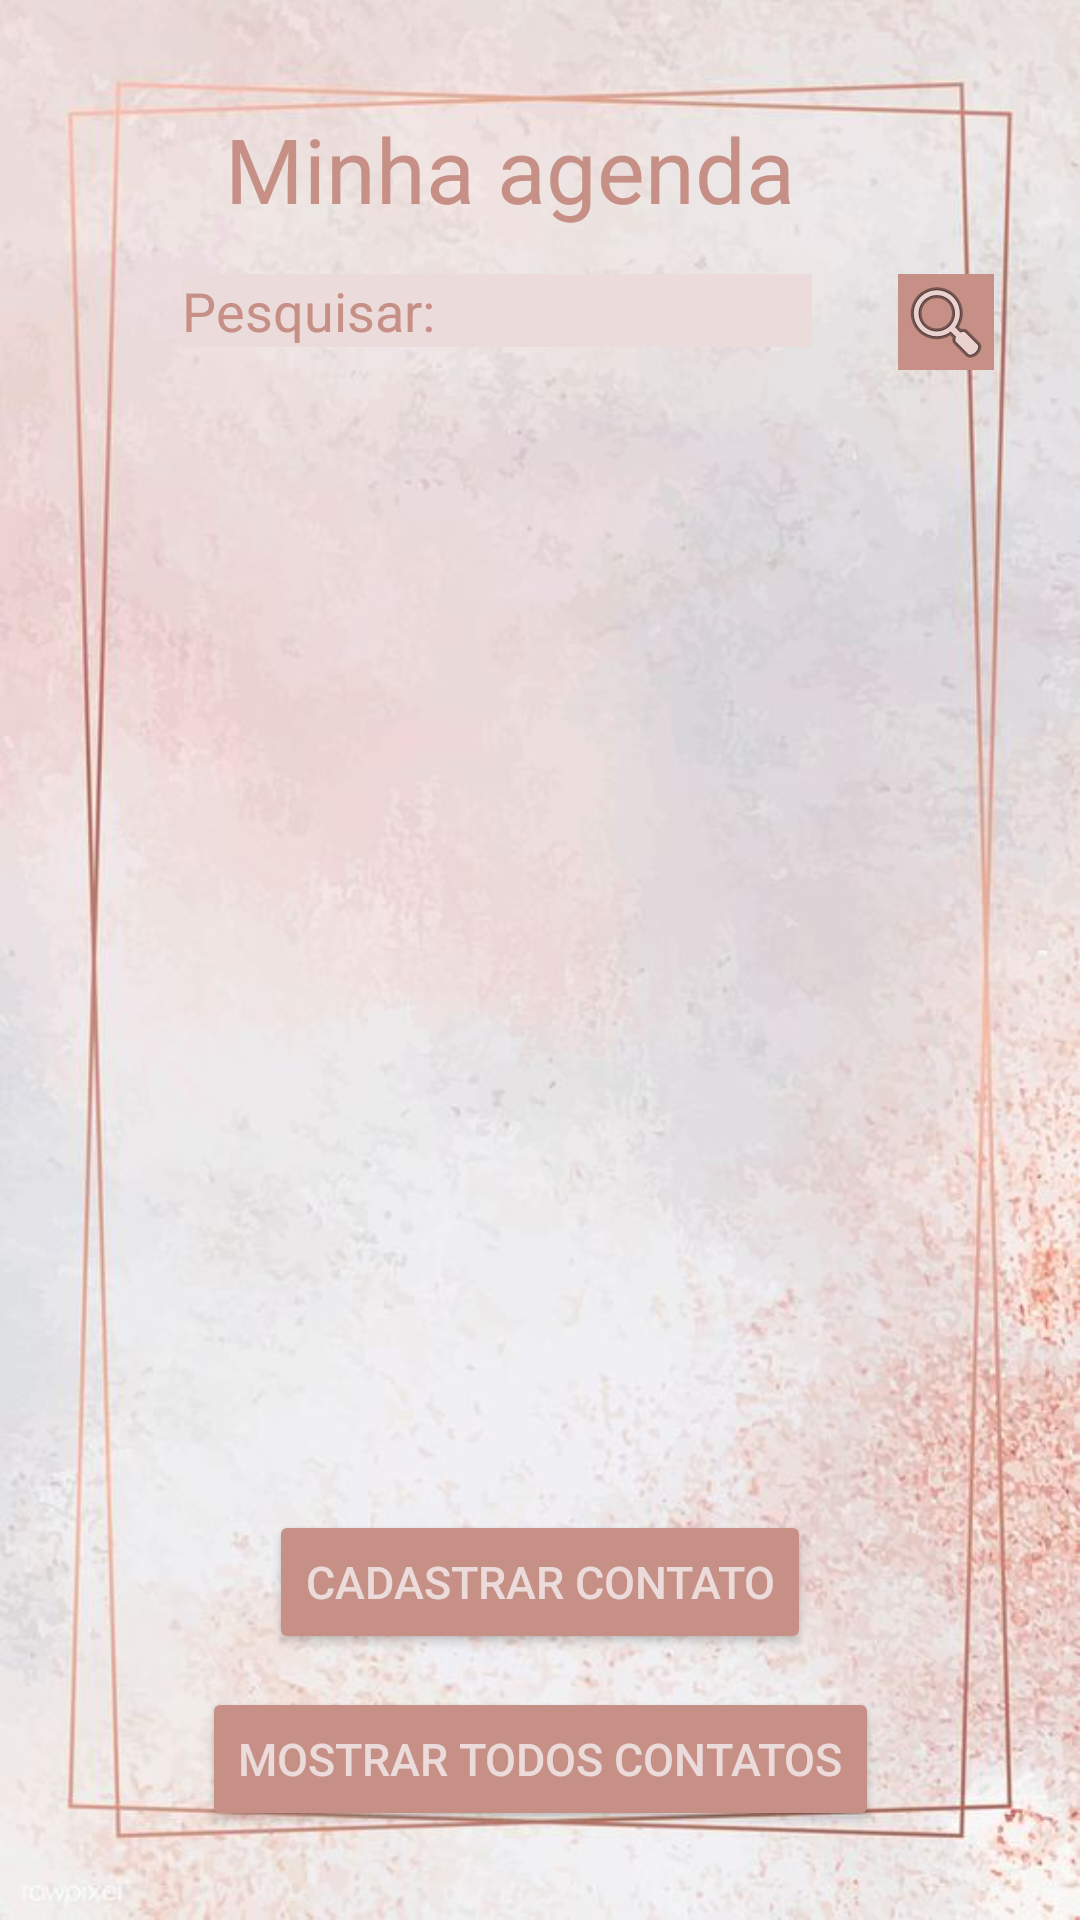

Icon bounding boxes for this 1080px x 1920px phone screenshot, format (x1, y1, x2, y2):
search: (898, 274, 994, 370)
